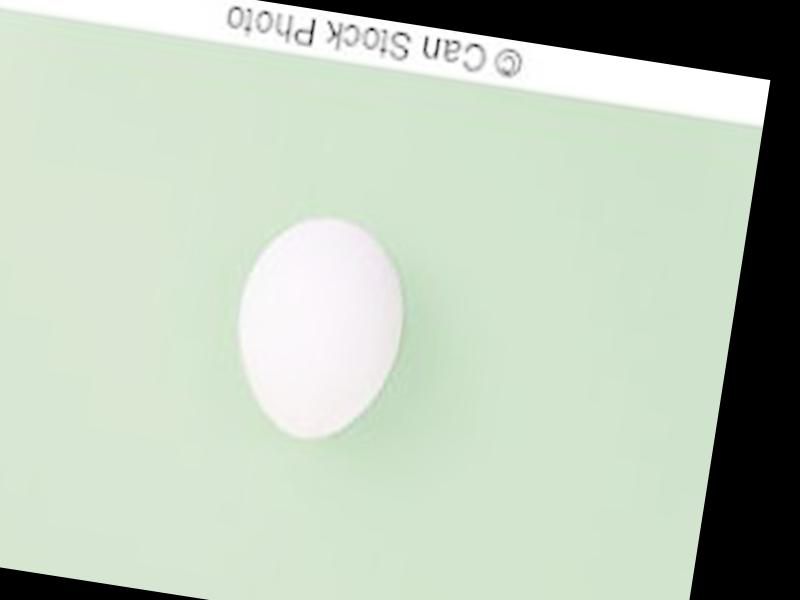Eggs: (224, 208, 415, 449)
